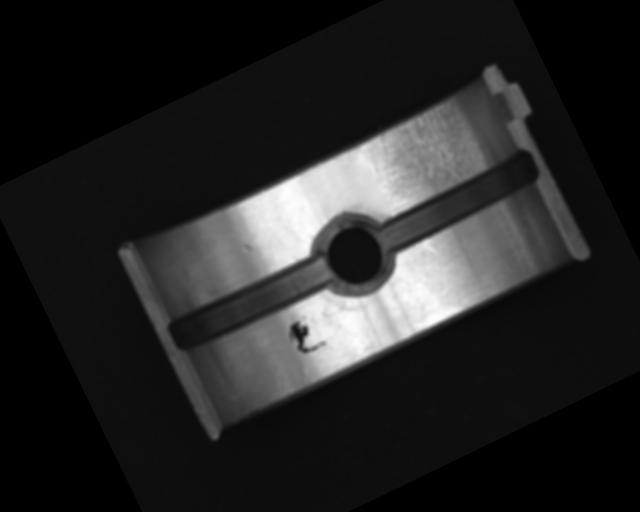blot: (281, 309, 330, 360)
bruise: (241, 242, 253, 254)
gap: (161, 245, 338, 360), (372, 147, 545, 256)
hole: (302, 199, 408, 308)
nick: (417, 236, 439, 259)
scratch: (352, 90, 501, 219)
